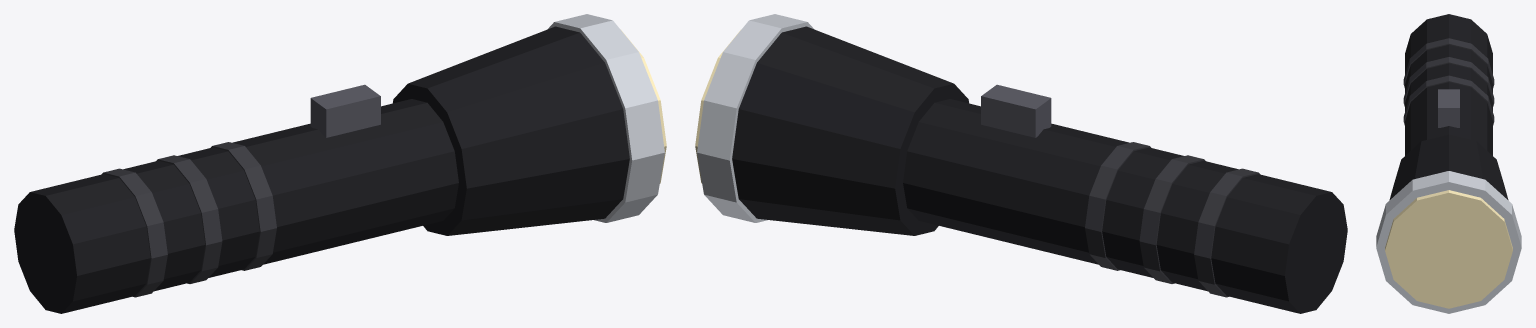
File: flashlight.fbx
The picture shows the model from 3 angles, left to right: view 1: azimuth 30°, elevation 25°; view 2: azimuth 150°, elevation 25°; view 3: azimuth 270°, elevation 25°; orthographic projection. The views are drawn at different scales.
Visible parts, largest first — view 1: flashlight; view 2: flashlight; view 3: flashlight.
Part boxes in pixels (left/top/right/bottom): flashlight: left=14, top=14, right=666, bottom=313; flashlight: left=695, top=14, right=1347, bottom=313; flashlight: left=1376, top=14, right=1521, bottom=313.
Size of the model in its own units: 0.211 by 0.066 by 0.066.
